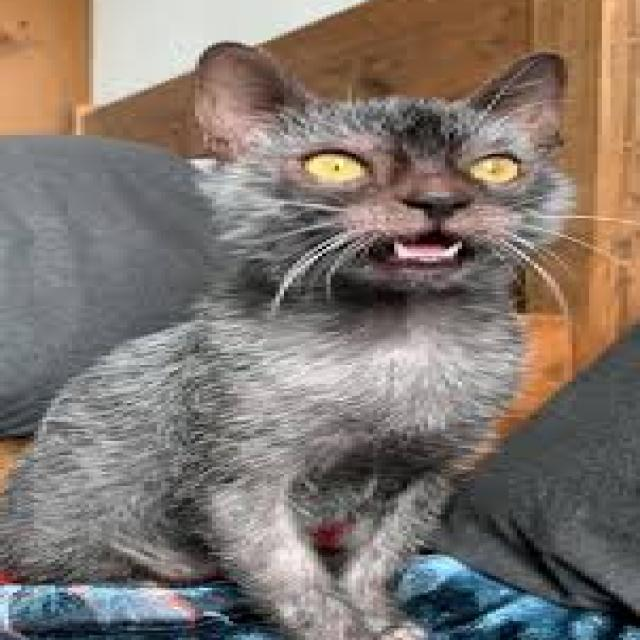Lykoi: (0, 38, 589, 640)
